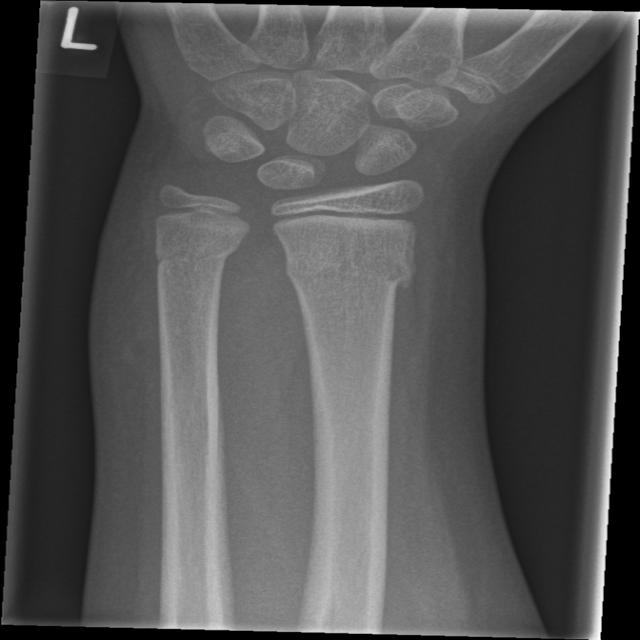radius fracture: (284, 238, 424, 332)
ulna fracture: (150, 224, 241, 318)
